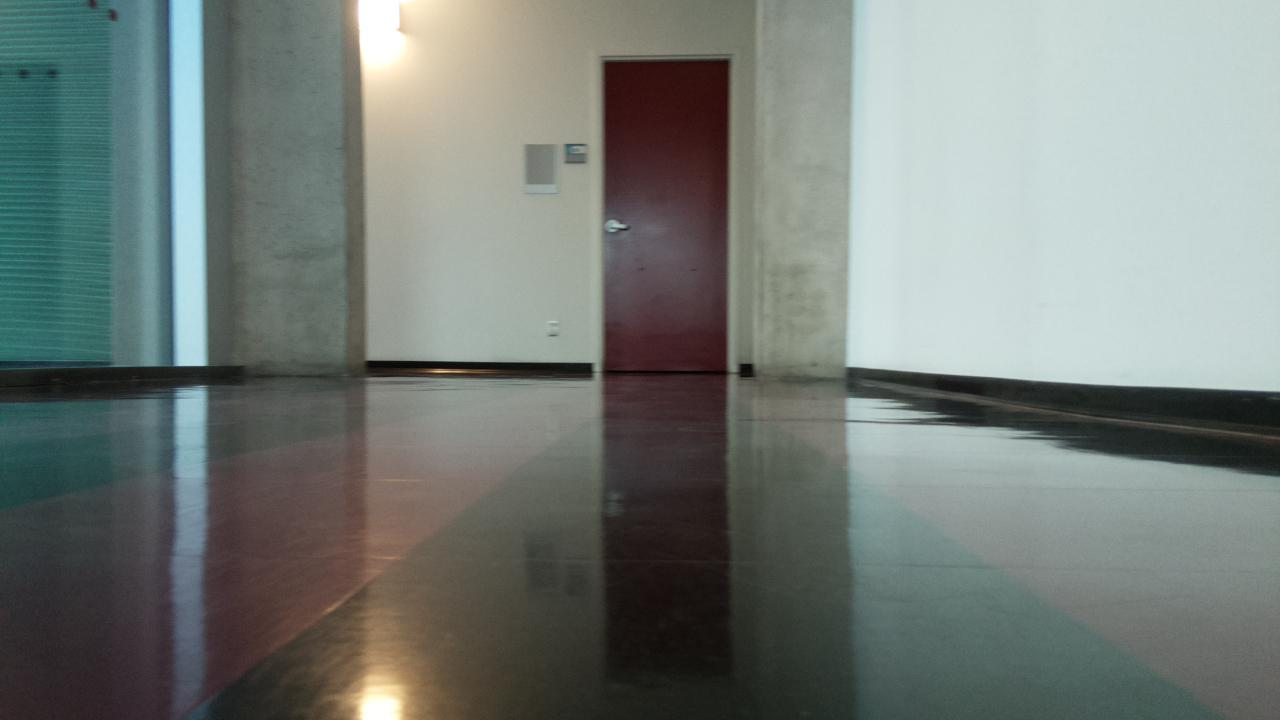door: (602, 60, 728, 371)
sign: (565, 144, 584, 161)
